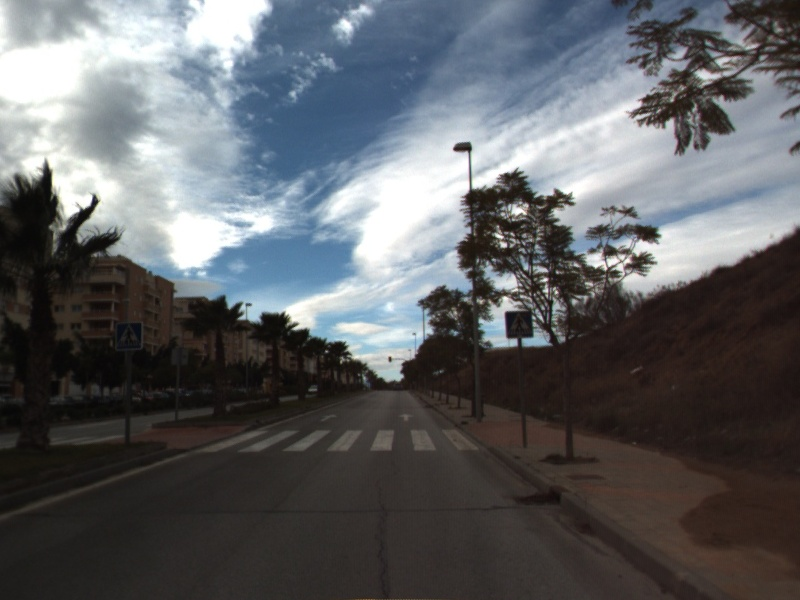STRAIGHT: (396, 411, 416, 423), (319, 412, 340, 423)
